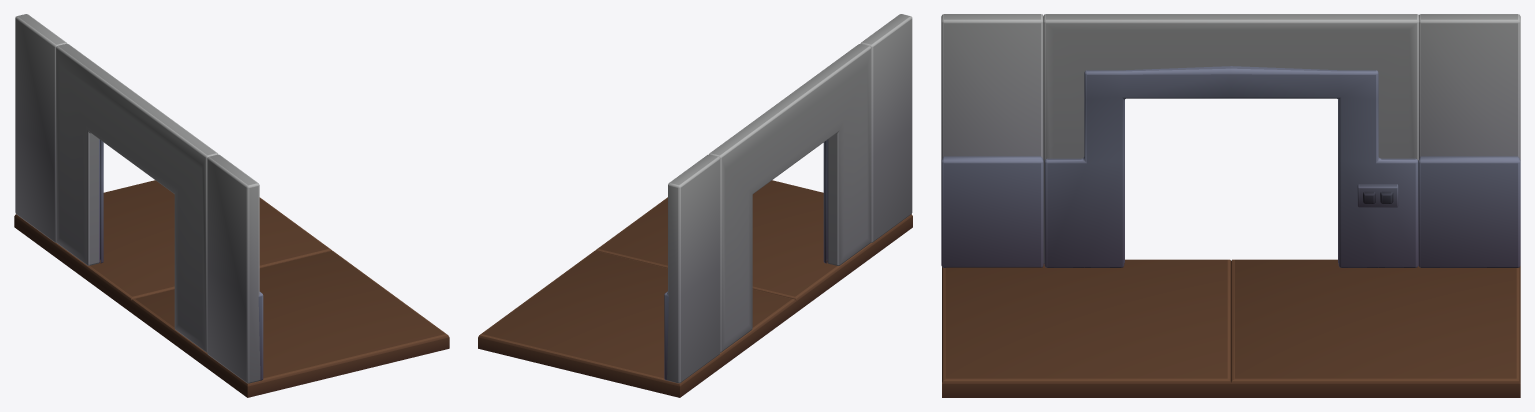
Rendered from wall-output.fbx.
The picture shows the model from 3 angles, left to right: view 1: azimuth 30°, elevation 25°; view 2: azimuth 150°, elevation 25°; view 3: azimuth 270°, elevation 25°; orthographic projection. The views are drawn at different scales.
Parts seen in each view (by area): view 1: wall-output; view 2: wall-output; view 3: wall-output.
Part boxes in pixels (box(x1,y1,x2,y2)): wall-output: box(14, 14, 449, 397); wall-output: box(478, 14, 912, 397); wall-output: box(941, 14, 1520, 397).
Size of the model in its own units: 1001 by 1001 by 2000.
